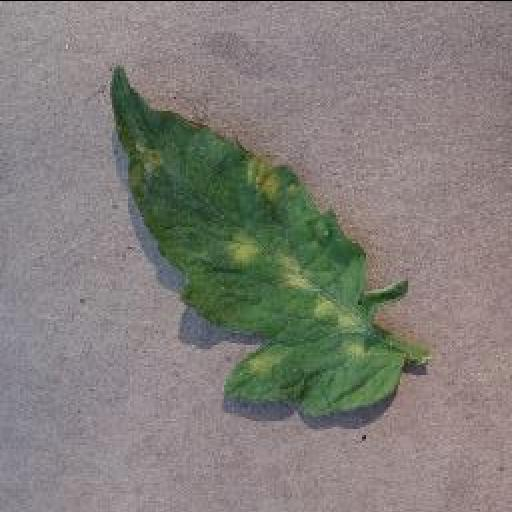disease_tomato: (108, 64, 402, 418)
